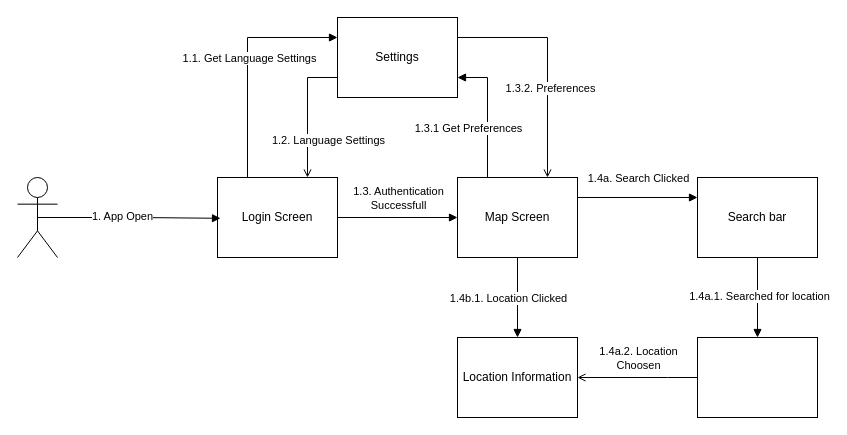
This 847x435 diagram has some shape labels left out. The shapes that lost their labels are listed below. From the top down, each one's centre as x and y in pixels, then its label:
the point at 37,217: User
the point at 757,377: Search Results Screen
